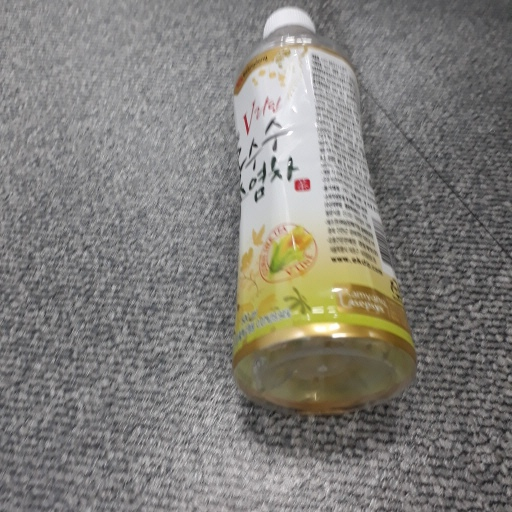Plastic_0: (232, 7, 418, 410)
